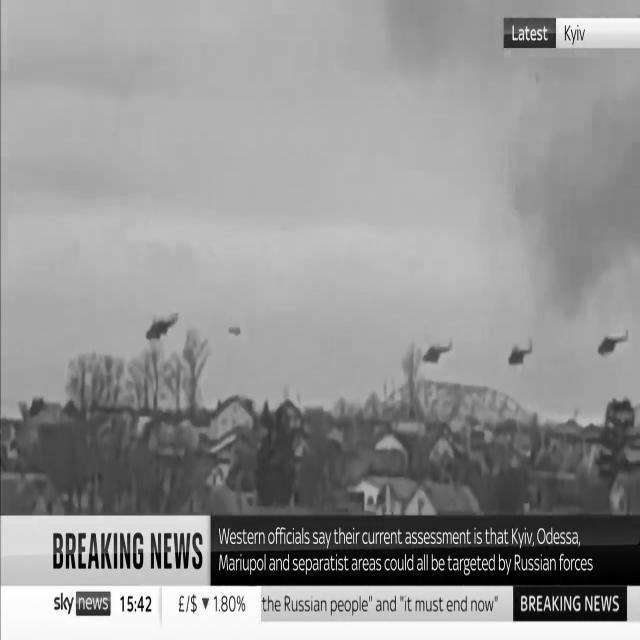helikopter: (584, 307, 638, 378), (136, 290, 190, 354), (412, 319, 465, 381), (496, 321, 546, 382)
